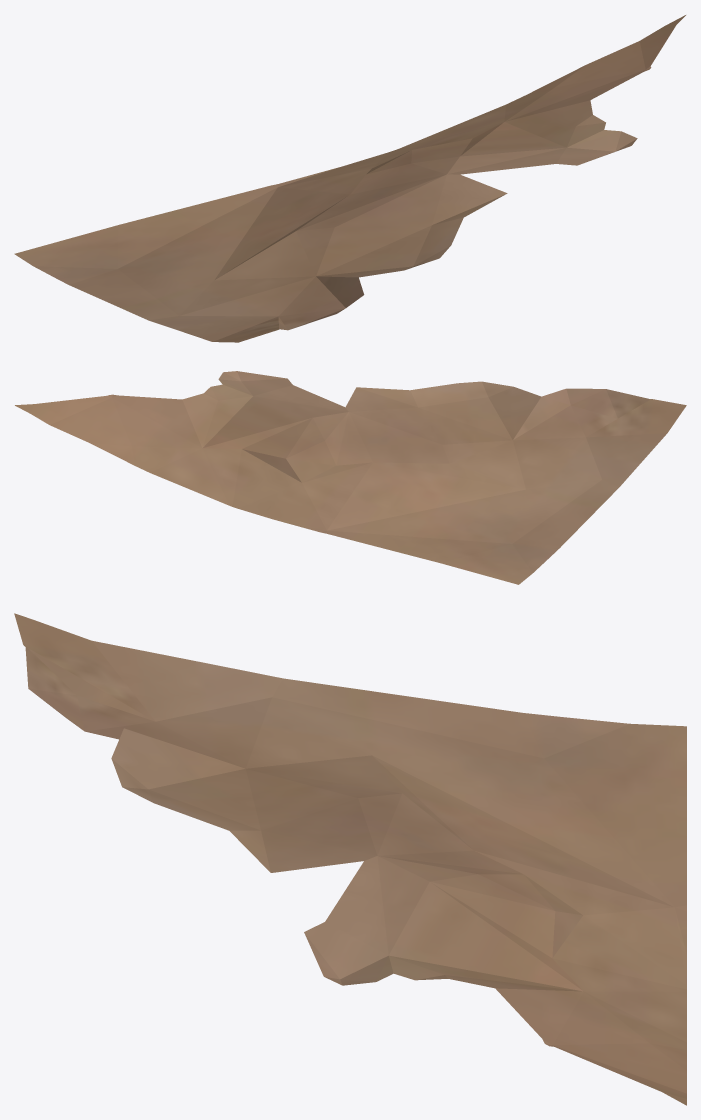
3 views of the same model, one above another, from view 1: azimuth 30°, elevation 25°; view 2: azimuth 150°, elevation 25°; view 3: azimuth 270°, elevation 25° (orthographic). The views are drawn at different scales.
Bounding box in the file's own units: 0.2208 × 0.0236 × 0.1274.
1 material, 1 textured.
